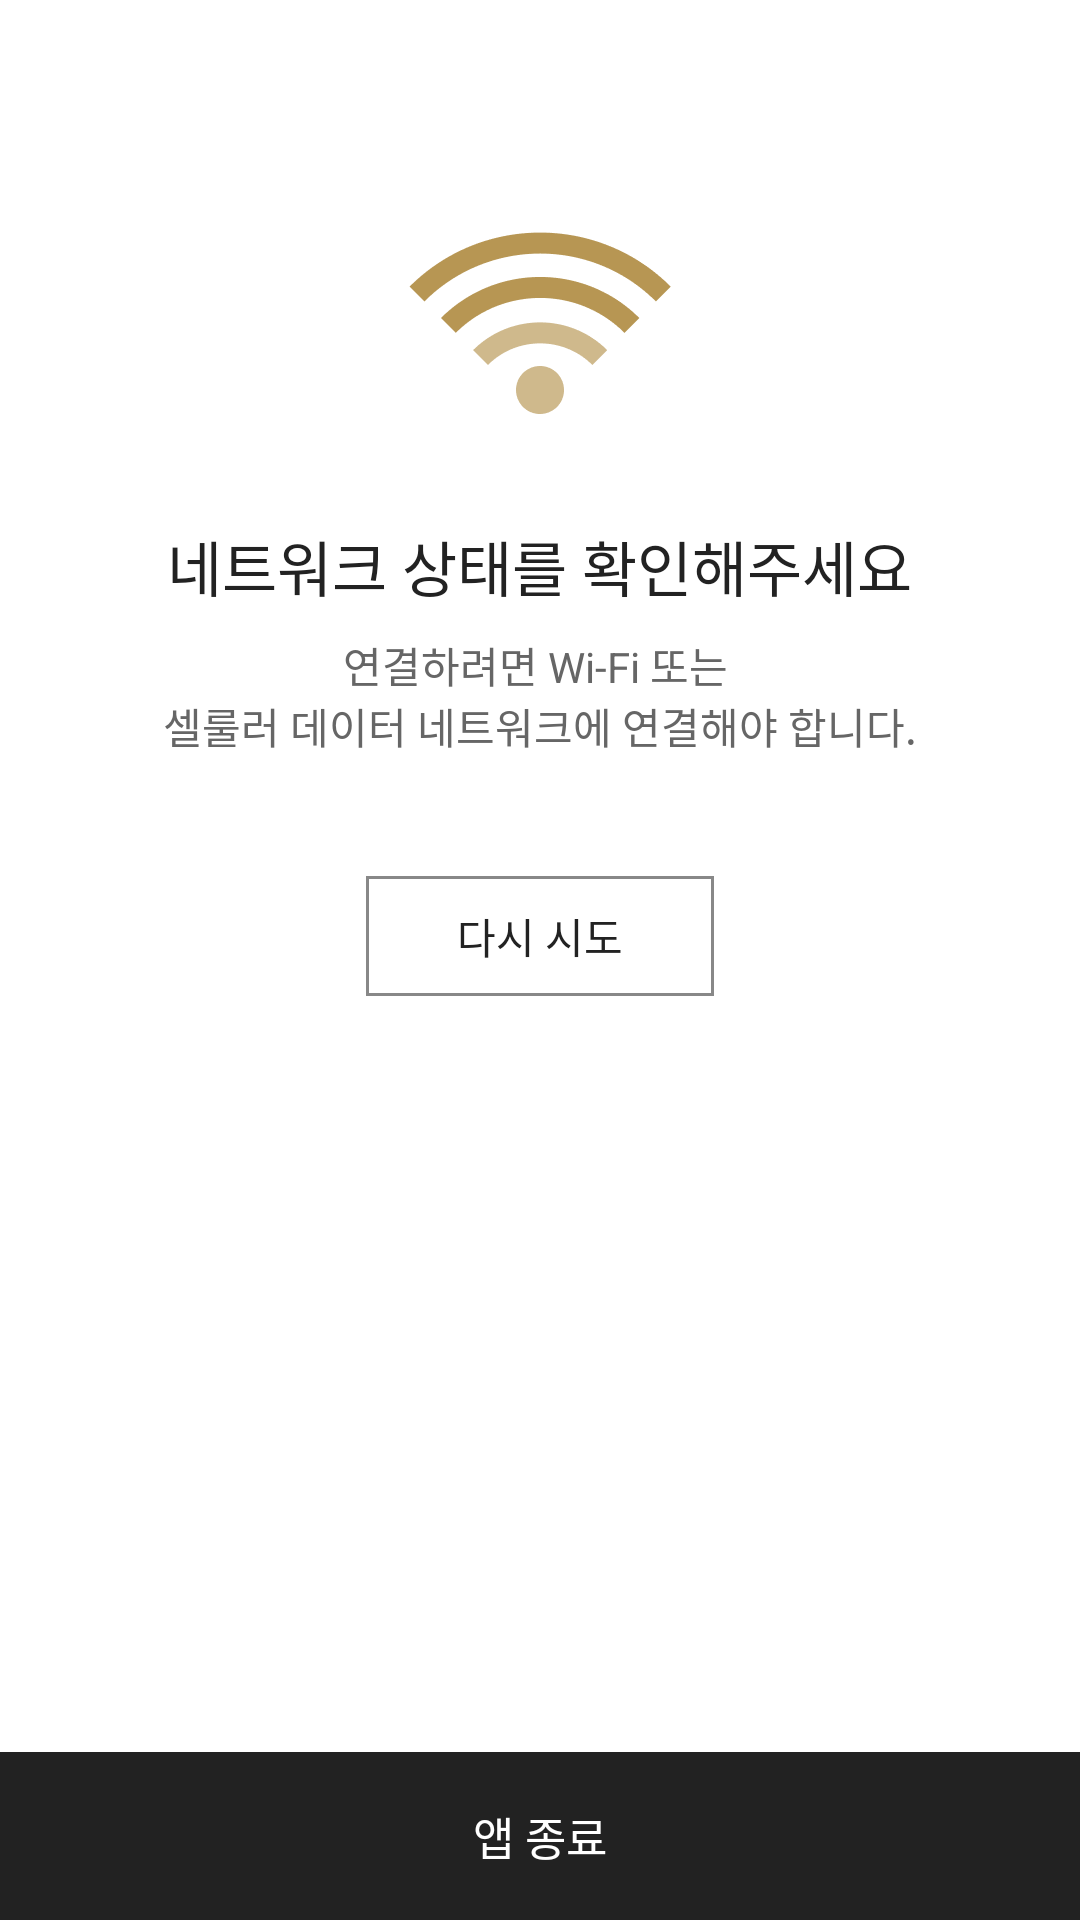

Where icons sit on this 1080 x 1920 app screen, as (x1, y1, x2, y2):
wifi: (409, 232, 671, 414)
